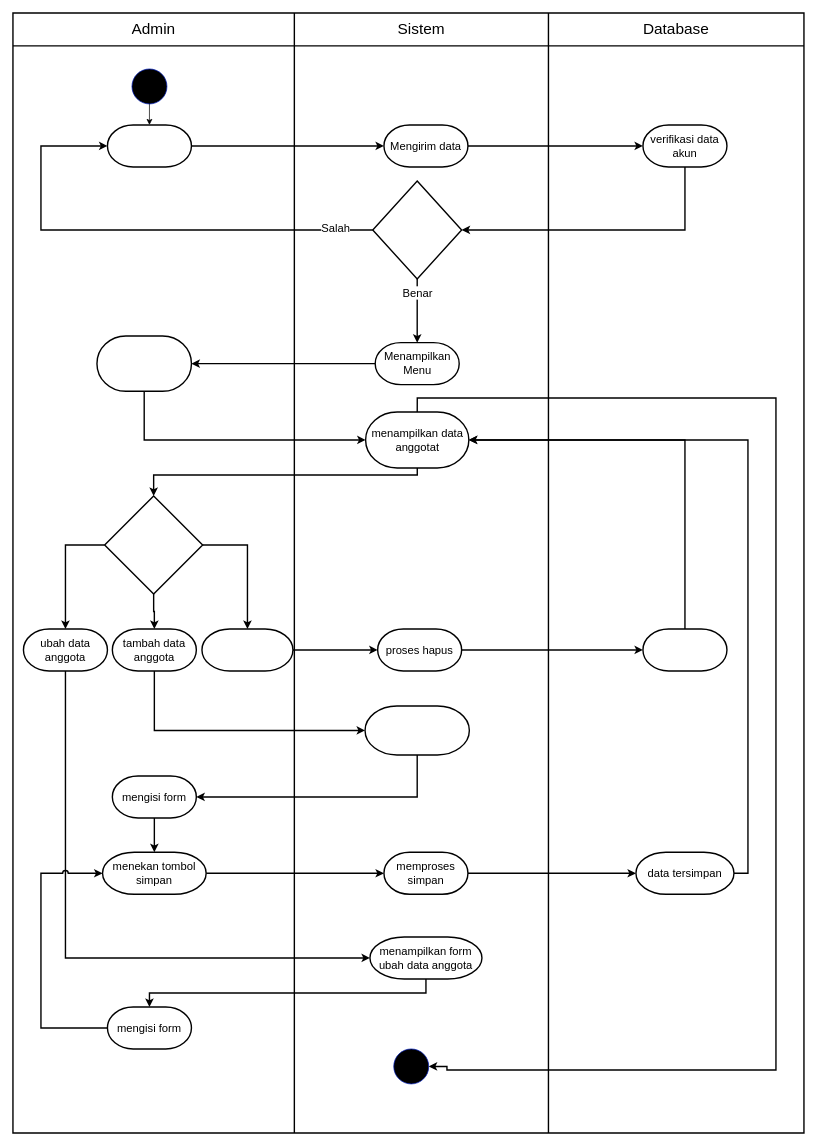
Some shapes in this 816 by 1145 pixel diagram are drawn without their labels. Each missing label, with the centre of its shape:
data terhapus: (x=684, y=649)
hapus data anggota: (x=247, y=649)
login: (x=149, y=145)
menampilkan form tambah anggota: (x=417, y=730)
menekan menu data anggota: (x=144, y=363)
pilihan aktivitas: (x=153, y=544)
validasi data: (x=417, y=229)
